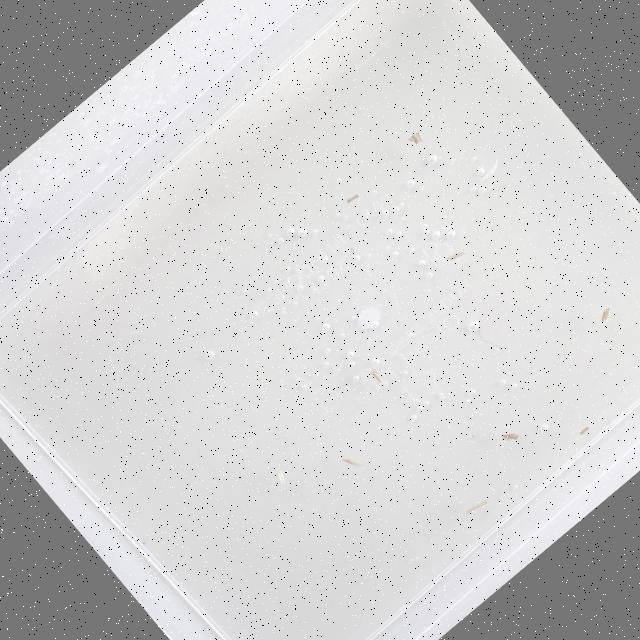Wereng: (362, 356, 394, 389), (334, 450, 364, 480), (462, 492, 493, 520), (402, 124, 432, 152), (497, 424, 525, 452), (592, 302, 618, 326), (442, 244, 468, 266), (342, 187, 366, 210), (574, 420, 594, 439), (272, 466, 290, 484)
